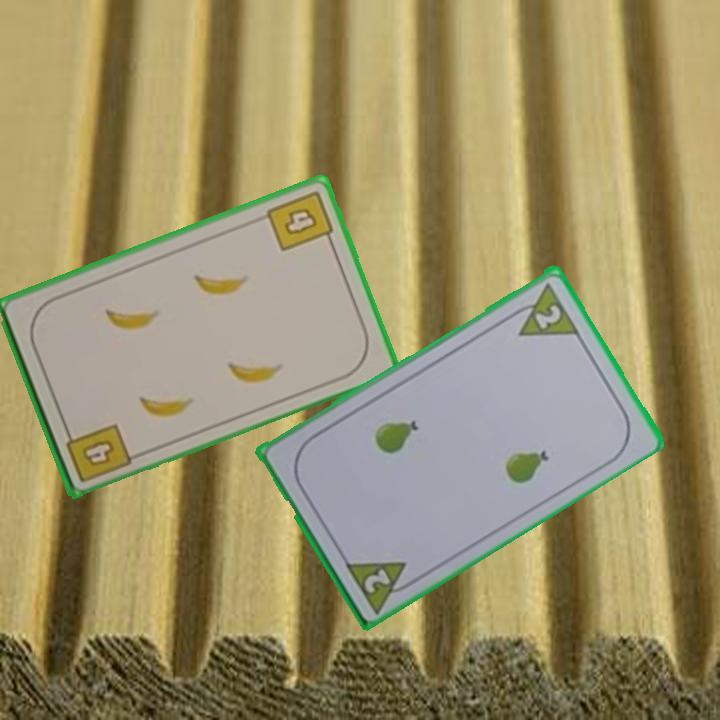2p: (504, 278, 582, 340), (340, 556, 420, 614)
4b: (263, 186, 337, 254), (61, 419, 134, 485)
